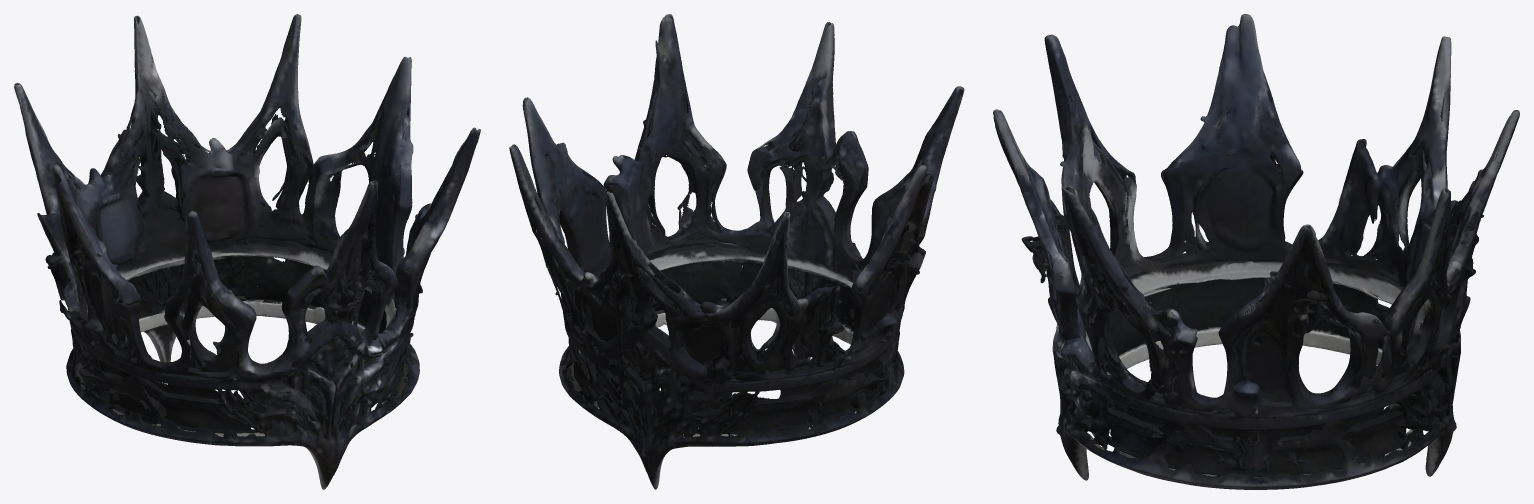
File: korona.glb
3 renders of one model, left to right at view 1: azimuth 30°, elevation 25°; view 2: azimuth 150°, elevation 25°; view 3: azimuth 270°, elevation 25°, orthographic. The views are drawn at different scales.
Parts seen in each view (by area): view 1: tripo_node_9a6b0259-9240-4264-b988-ddd7ecb850c3; view 2: tripo_node_9a6b0259-9240-4264-b988-ddd7ecb850c3; view 3: tripo_node_9a6b0259-9240-4264-b988-ddd7ecb850c3.
Part boxes in pixels (x1,y1,x2,y2): tripo_node_9a6b0259-9240-4264-b988-ddd7ecb850c3: (14,14,480,489); tripo_node_9a6b0259-9240-4264-b988-ddd7ecb850c3: (509,14,964,489); tripo_node_9a6b0259-9240-4264-b988-ddd7ecb850c3: (993,14,1519,489).
Bounding box in the file's own units: 0.9502 × 0.7877 × 1.
Materials: 1 (1 with a texture image).
